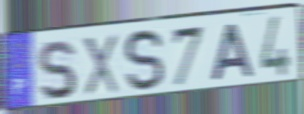4: (258, 13, 293, 80)
7: (169, 25, 207, 88)
A: (209, 21, 256, 83)
S: (122, 26, 167, 95), (35, 38, 78, 103)
X: (81, 32, 121, 98)
